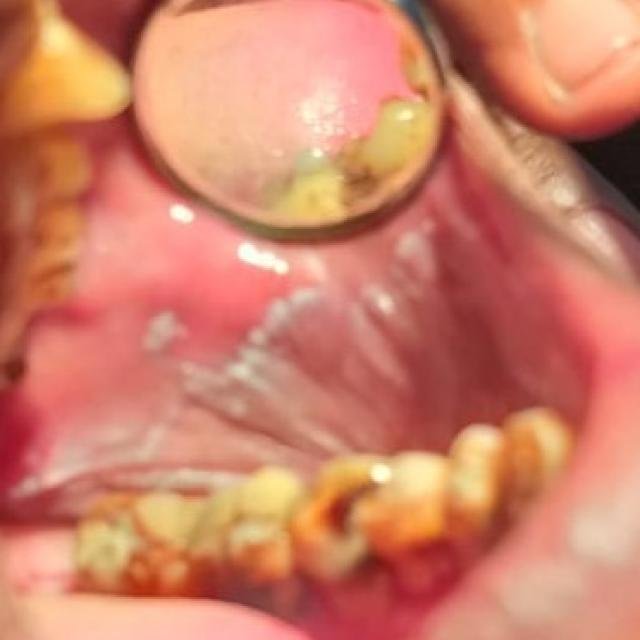Cancer: (205, 234, 495, 446), (0, 399, 177, 511)
